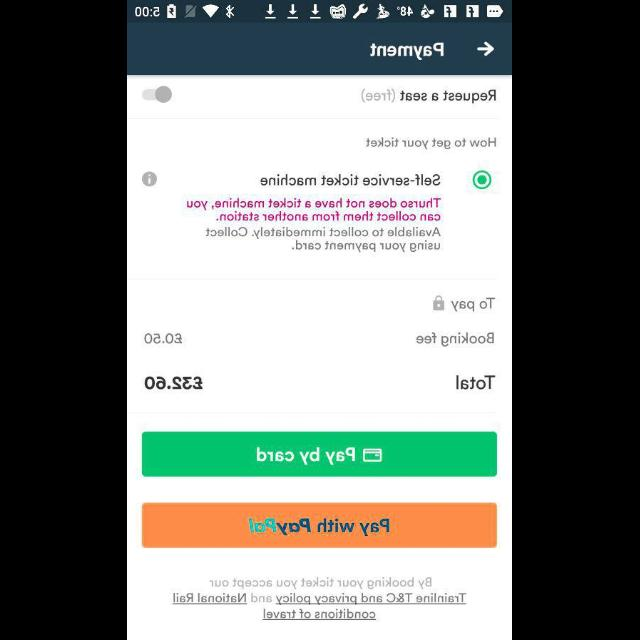checkbox: (475, 170, 493, 188)
icon: (142, 171, 158, 187), (477, 42, 495, 56), (434, 295, 446, 311)
switch: (142, 86, 172, 104)
text: (173, 578, 467, 620), (206, 226, 442, 252), (188, 198, 442, 222), (262, 174, 440, 186), (367, 138, 498, 150), (399, 91, 496, 105), (416, 332, 496, 348), (370, 44, 444, 60), (144, 376, 203, 390), (456, 374, 496, 390), (451, 298, 495, 312), (362, 88, 396, 104), (144, 334, 182, 344)
textbutton: (142, 502, 498, 548), (142, 432, 498, 476)
uppertaskbar: (128, 1, 512, 23)
